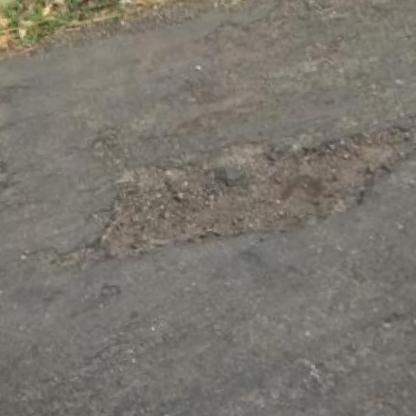pothole: (79, 108, 416, 272), (0, 78, 29, 115)
